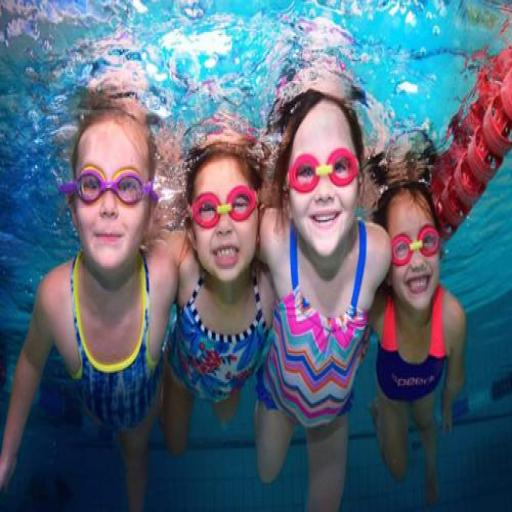swimming: (0, 79, 182, 510), (252, 81, 394, 510), (158, 116, 278, 463), (365, 178, 469, 510)
